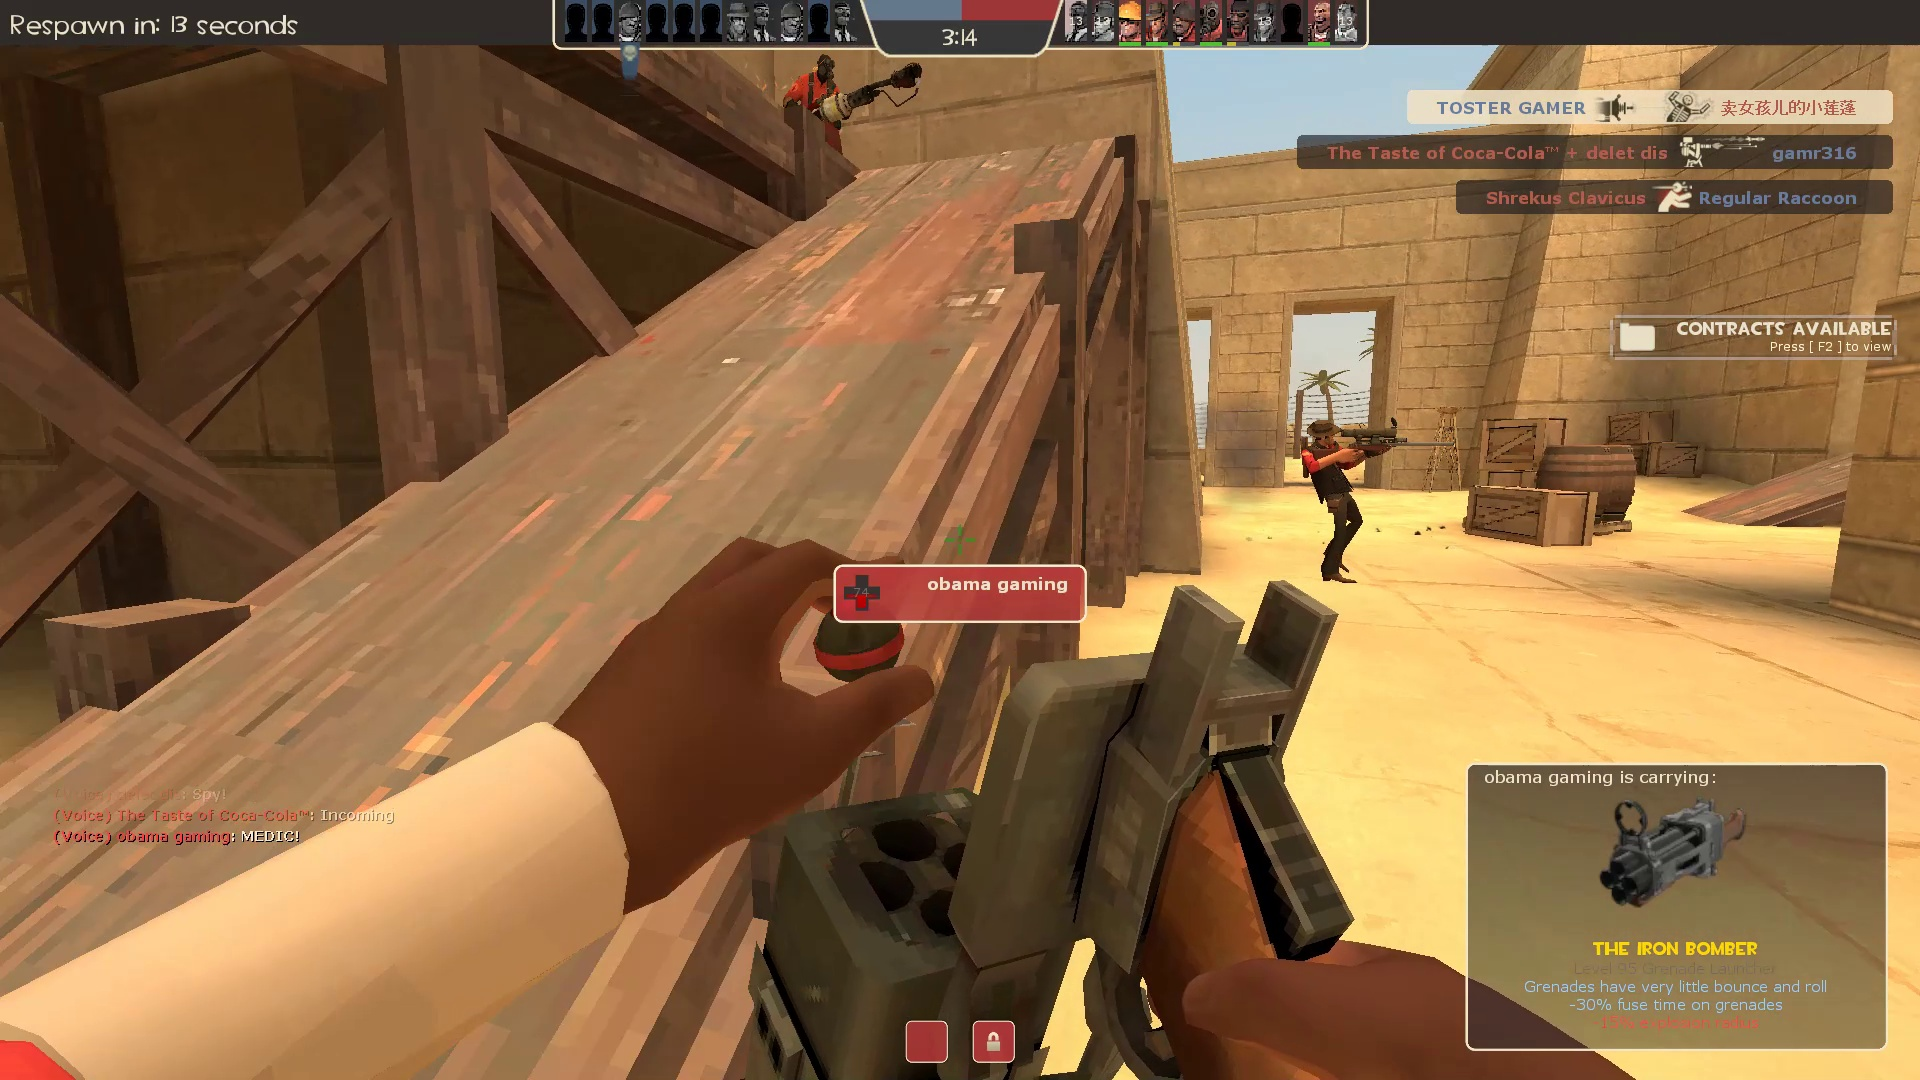red_pyro: (767, 47, 928, 208)
red_sniper: (1291, 411, 1457, 593)
